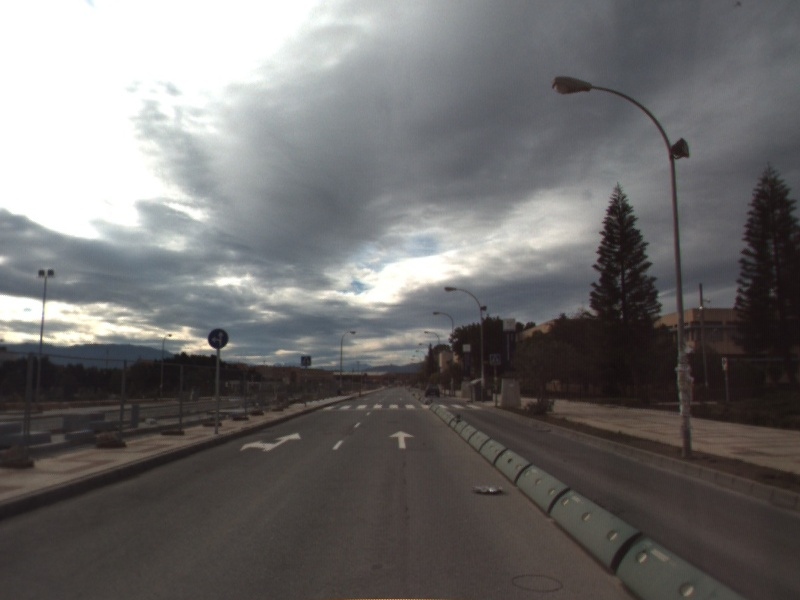STRAIGHT: (387, 428, 417, 450)
STRAIGHT_LEFT: (238, 430, 303, 454)
